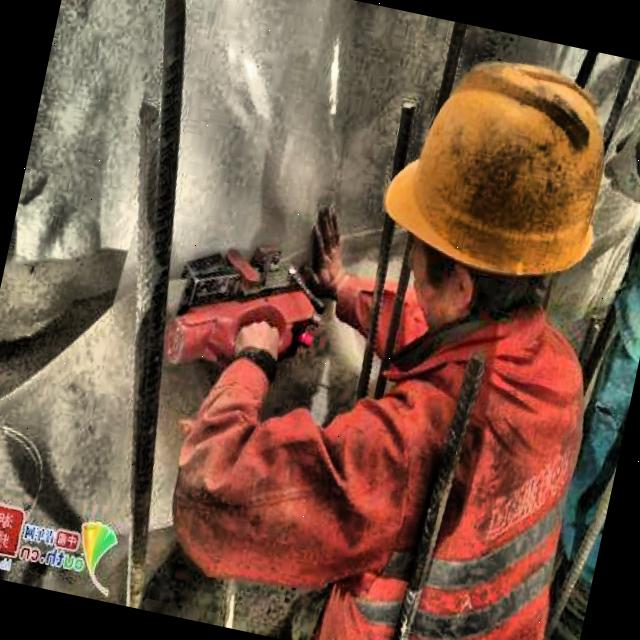helmet: (347, 23, 640, 382), (64, 506, 136, 584)
